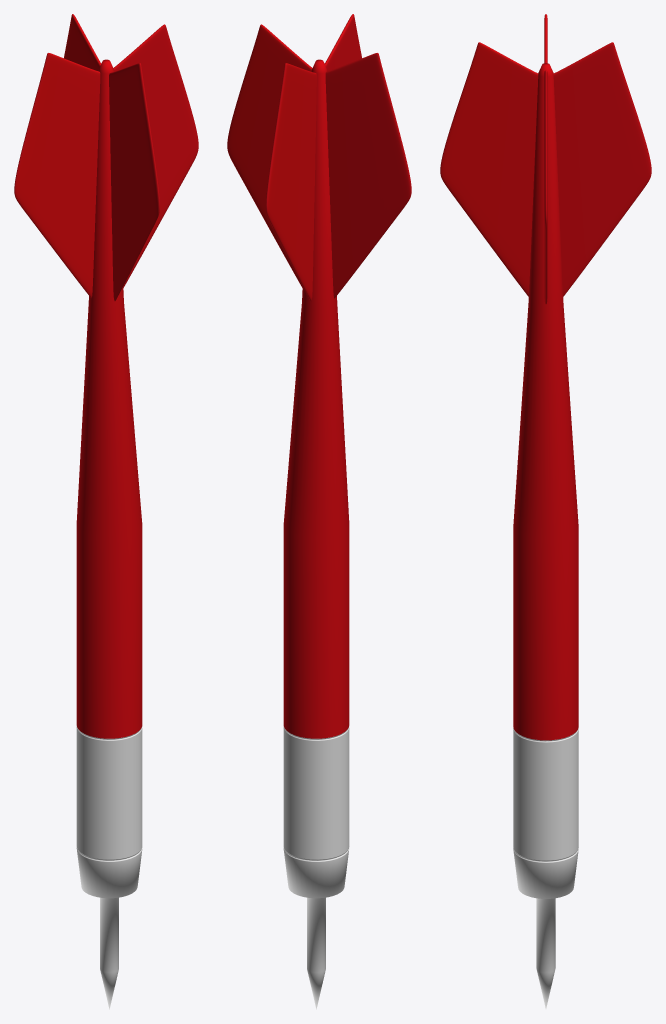
Rendered from dart.fbx.
3 renders of one model, left to right at view 1: azimuth 30°, elevation 25°; view 2: azimuth 150°, elevation 25°; view 3: azimuth 270°, elevation 25°, orthographic.
Visible parts, largest first — view 1: dart body, flag1, flag4, flag3, flag2; view 2: dart body, flag1, flag2, flag3, flag4; view 3: dart body, flag2, flag4, flag3.
Part boxes in pixels (x1,y1,x2,y2): dart body: (76,59,142,1009); flag1: (14,53,100,298); flag4: (109,63,159,300); flag3: (113,24,198,287); flag2: (64,14,101,70); dart body: (283,59,349,1009); flag1: (325,53,411,298); flag2: (266,63,316,300); flag3: (227,24,312,287); flag4: (324,14,361,70); dart body: (513,63,578,1008); flag2: (553,42,651,296); flag4: (440,42,538,296); flag3: (544,70,547,303).
Bounding box in the file's own units: 67.37 × 340 × 67.37.
